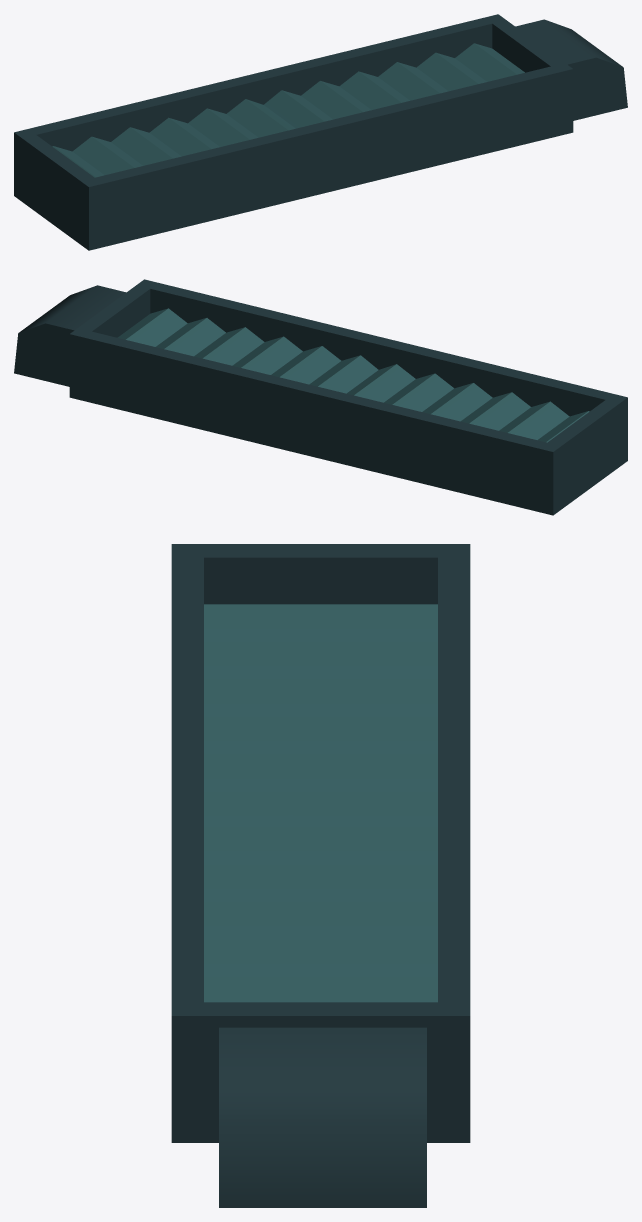
The model's file is Vent_1_B_1.fbx.
3 views of the same model, one above another, from view 1: azimuth 30°, elevation 25°; view 2: azimuth 150°, elevation 25°; view 3: azimuth 270°, elevation 25° (orthographic). The views are drawn at different scales.
Visible parts, largest first — view 1: Vent_1_B_1; view 2: Vent_1_B_1; view 3: Vent_1_B_1.
Part boxes in pixels (box(x1,y1,x2,y2)): Vent_1_B_1: box(14, 14, 627, 250); Vent_1_B_1: box(14, 279, 627, 515); Vent_1_B_1: box(171, 544, 470, 1207).
Size of the model in its own units: 242 by 26.71 by 56.97.
